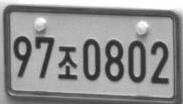0: (127, 39, 147, 84), (81, 37, 101, 81)
2: (149, 40, 169, 85)
7: (34, 35, 55, 79)
8: (103, 38, 124, 82)
9: (12, 35, 32, 78)
조: (57, 45, 78, 80)
